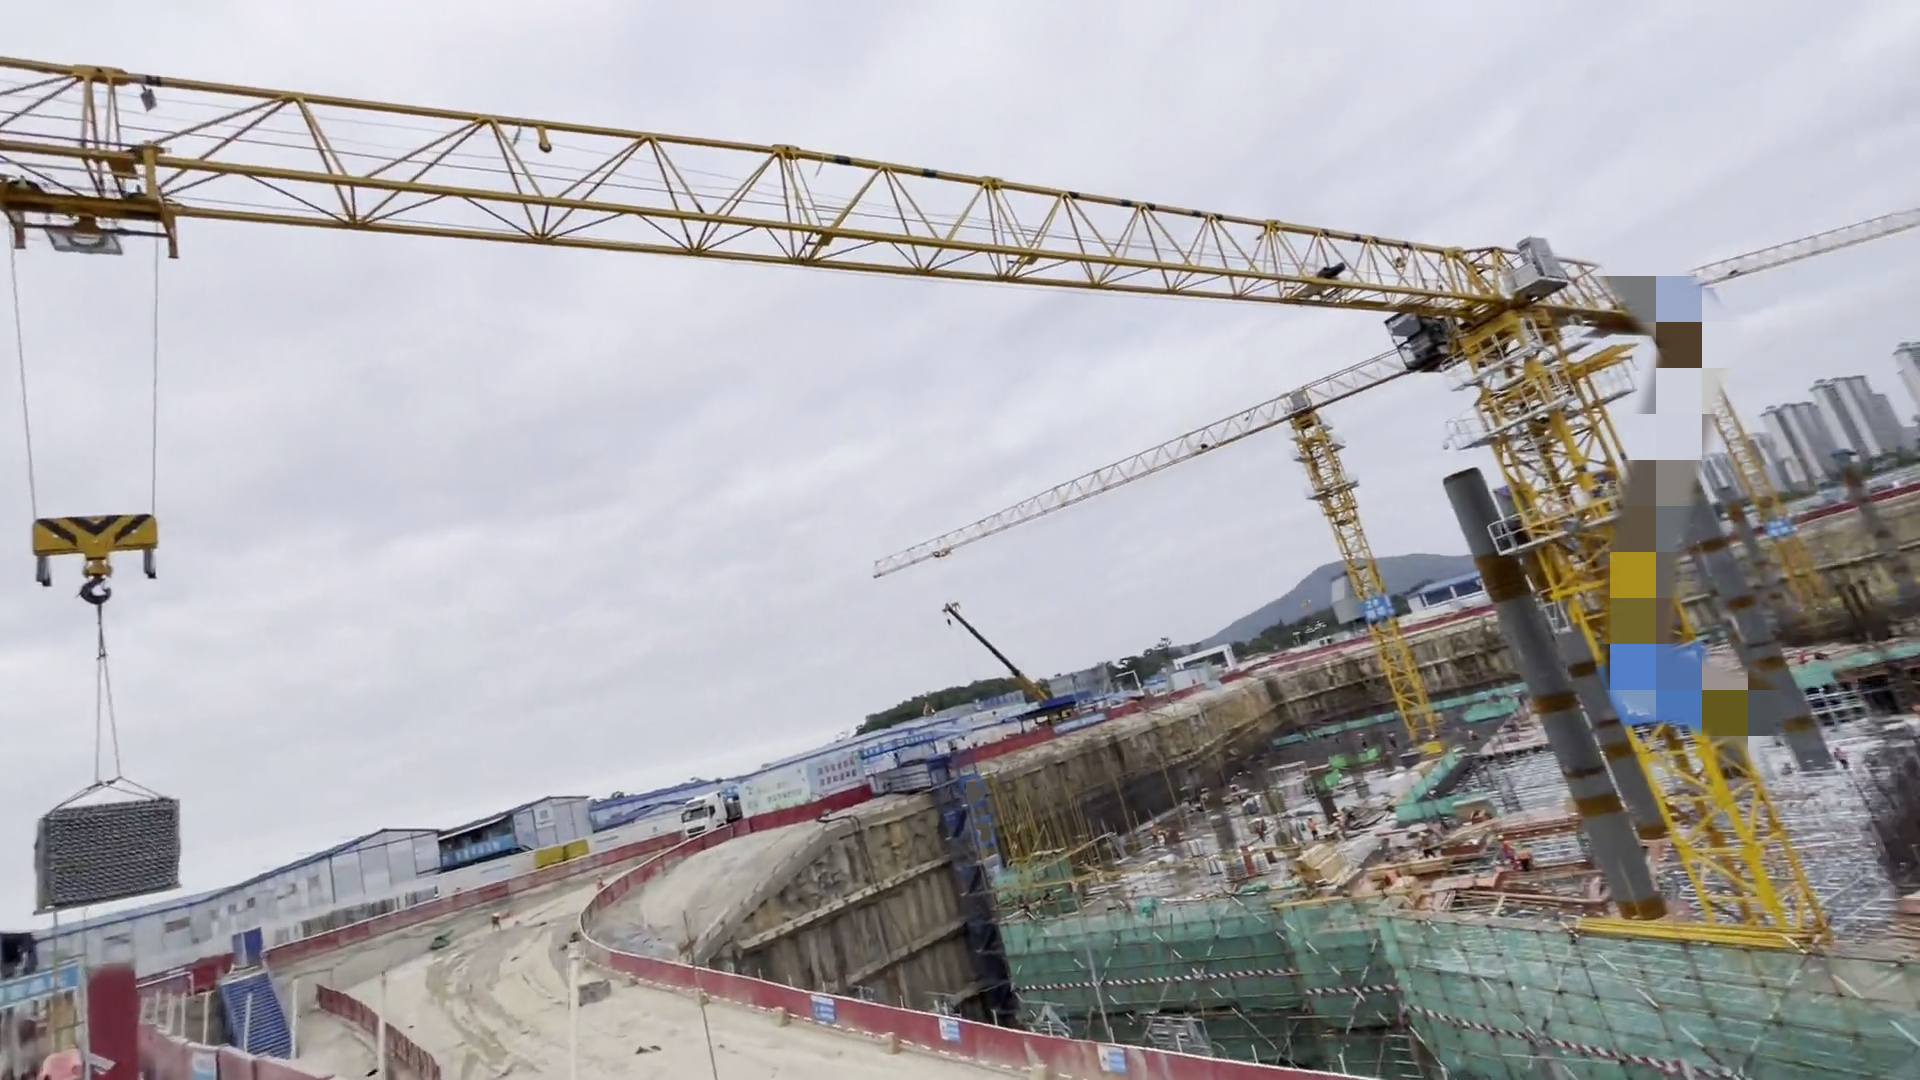fence: (559, 899, 1274, 1077)
hook: (17, 501, 174, 615)
scaffold: (44, 782, 187, 928)
slogan: (746, 731, 881, 851), (444, 808, 558, 891)
